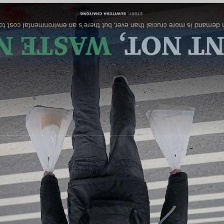plastic_bag: (142, 99, 196, 172), (24, 100, 75, 176)
